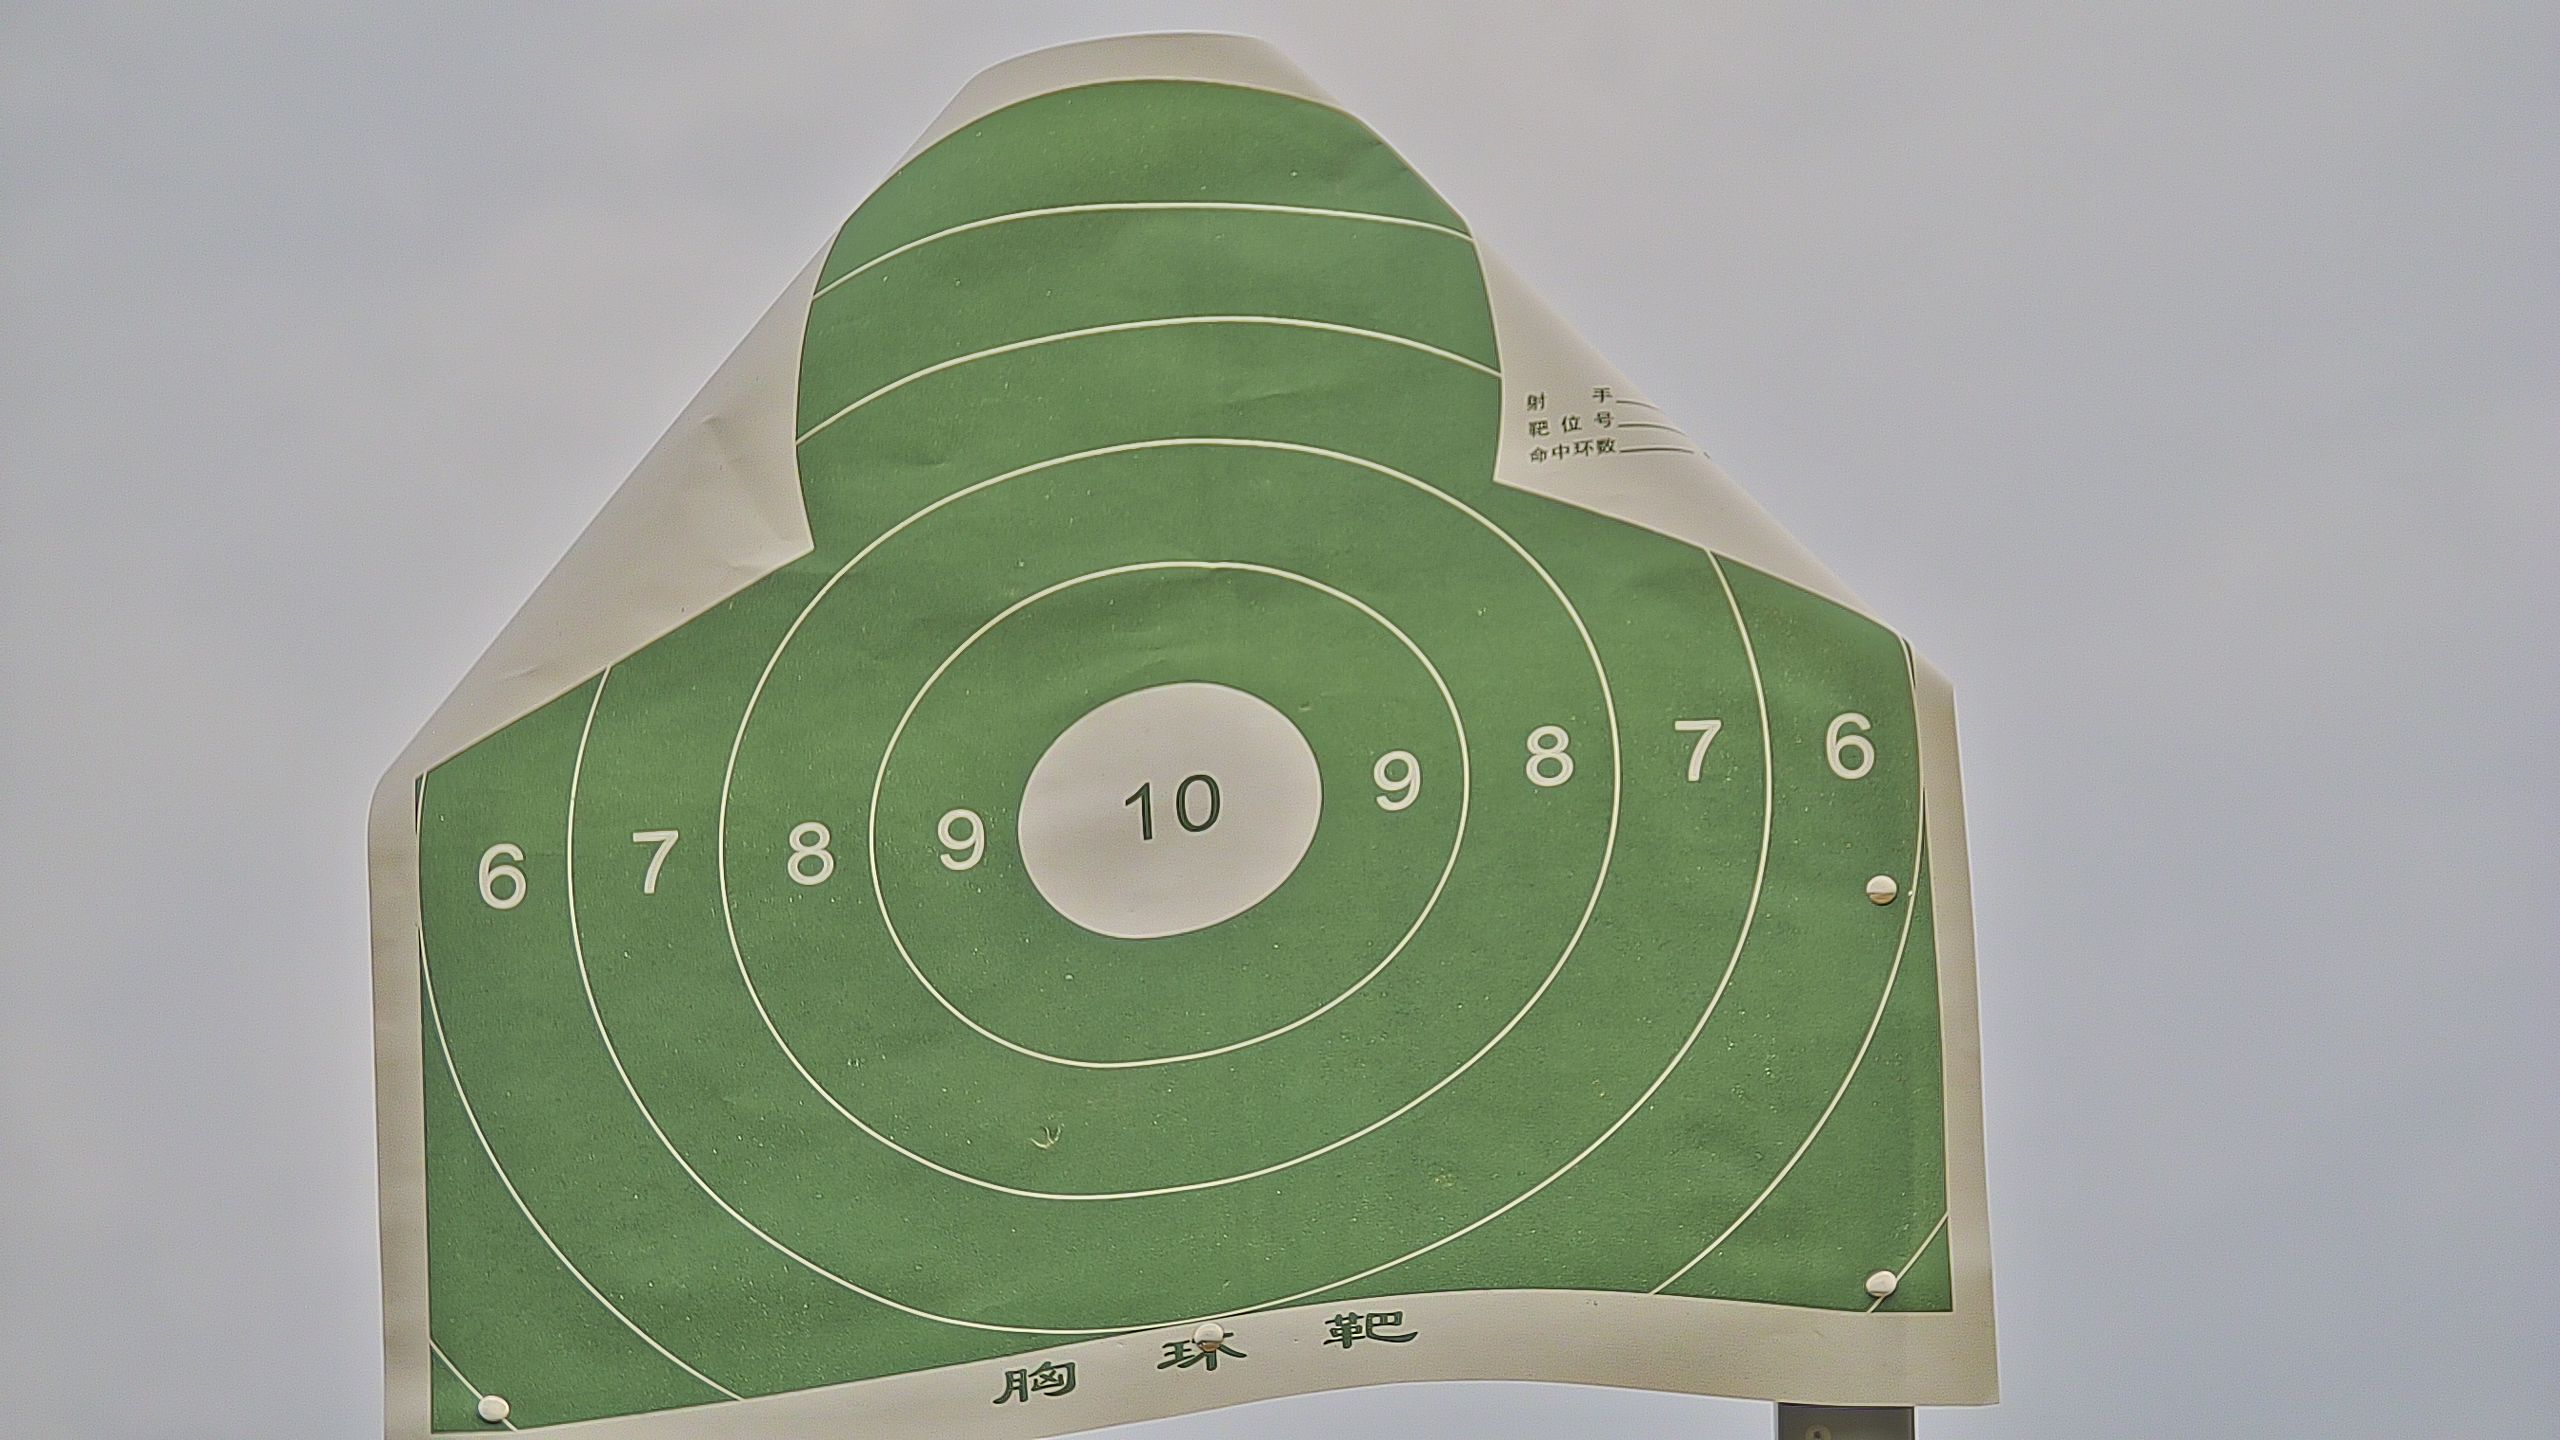kernel: (1160, 807, 1166, 811)
target: (410, 81, 1967, 1440)
ten: (1013, 679, 1322, 948)
